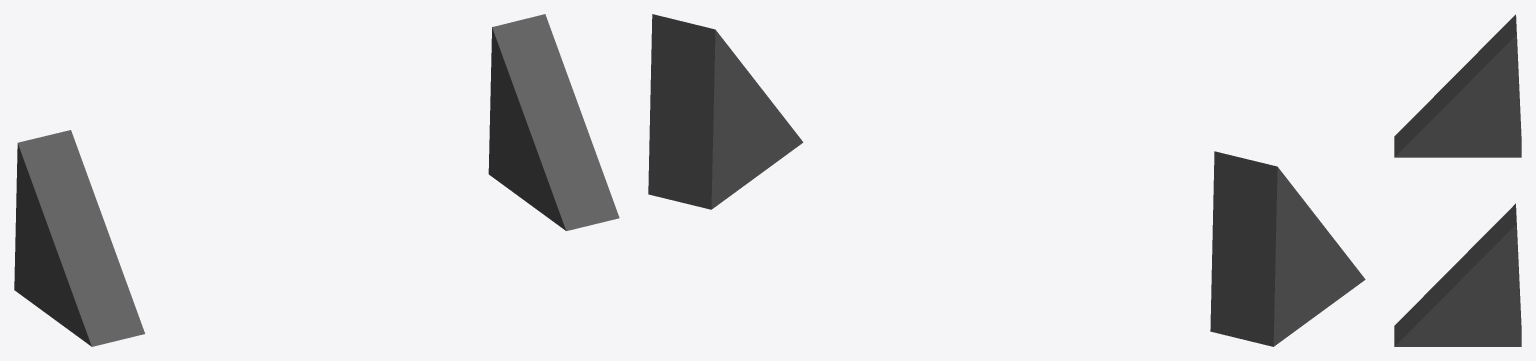
The model's file is StairTopDecoration_01.fbx.
3 views of the same model, side by side, from view 1: azimuth 30°, elevation 25°; view 2: azimuth 150°, elevation 25°; view 3: azimuth 270°, elevation 25° (orthographic). The views are drawn at different scales.
Visible parts, largest first — view 1: StairTopDecoration_01; view 2: StairTopDecoration_01; view 3: StairTopDecoration_01.
Part boxes in pixels (box(x1,y1,x2,y2)): StairTopDecoration_01: box(14, 14, 619, 346); StairTopDecoration_01: box(648, 14, 1365, 346); StairTopDecoration_01: box(1394, 14, 1521, 346).
Size of the model in its own units: 100 by 27.13 by 25.5.
